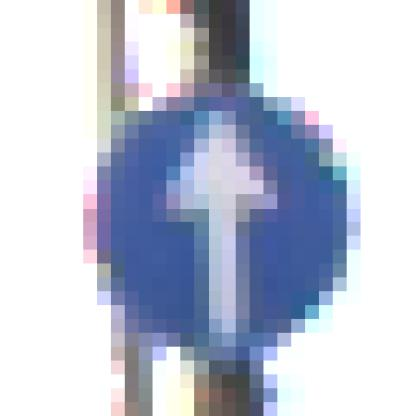AheadOnly: (84, 84, 334, 334)
